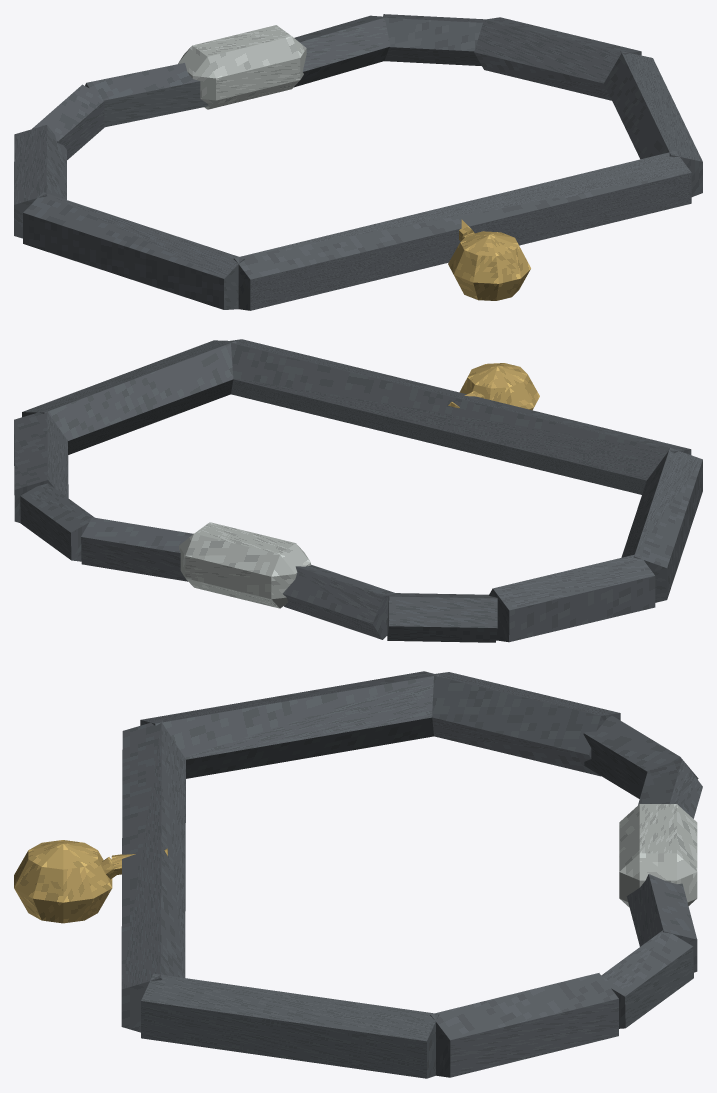
Rendered from leather_collar.glb.
3 renders of one model, top to bottom at view 1: azimuth 30°, elevation 25°; view 2: azimuth 150°, elevation 25°; view 3: azimuth 270°, elevation 25°, orthographic. The views are drawn at different scales.
Visible parts, largest first — view 1: block_looped strap 2, block_looped strap 1, block_strap end 1 (×2), block_looped strap 4, block_strap keeper, block_strap end 0 (×2), block_looped strap 3, block_small hanging bell, block_looped strap 0; view 2: block_looped strap 2, block_looped strap 3, block_strap end 1 (×2), block_looped strap 0, block_strap end 0 (×2), block_strap keeper, block_looped strap 1, block_looped strap 4, block_small hanging bell; view 3: block_looped strap 3, block_looped strap 1, block_looped strap 2, block_looped strap 4, block_looped strap 0, block_strap end 0 (×2), block_small hanging bell, block_strap keeper, block_strap end 1 (×2).
Part boxes in pixels (x1,y1,x2,y2): block_looped strap 2: (233,151,691,310); block_looped strap 1: (23,192,244,309); block_strap end 1 (×2): (85,15,390,127); block_looped strap 4: (474,17,641,100); block_strap keeper: (178,25,306,109); block_strap end 0 (×2): (32,14,484,159); block_looped strap 3: (604,51,702,196); block_small hanging bell: (448,231,530,300); block_looped strap 0: (14,125,66,238); block_looped strap 2: (224,339,691,494); block_looped strap 3: (22,340,236,454); block_strap end 1 (×2): (81,517,395,639); block_looped strap 0: (489,553,655,642); block_strap end 0 (×2): (20,483,497,642); block_strap keeper: (179,522,310,608); block_looped strap 1: (621,448,702,602); block_looped strap 4: (14,410,68,523); block_small hanging bell: (459,363,539,410); block_looped strap 3: (141,973,439,1078); block_looped strap 1: (140,671,438,778); block_looped strap 2: (121,719,185,1032); block_looped strap 4: (430,973,618,1077); block_looped strap 0: (429,672,620,776); block_strap end 0 (×2): (583,715,698,1028); block_small hanging bell: (14,840,112,923); block_strap keeper: (619,804,697,907); block_strap end 1 (×2): (626,759,702,972).
Size of the model in its own units: 0.1323 by 0.0152 by 0.1041.
Materials: 1 (1 with a texture image).
